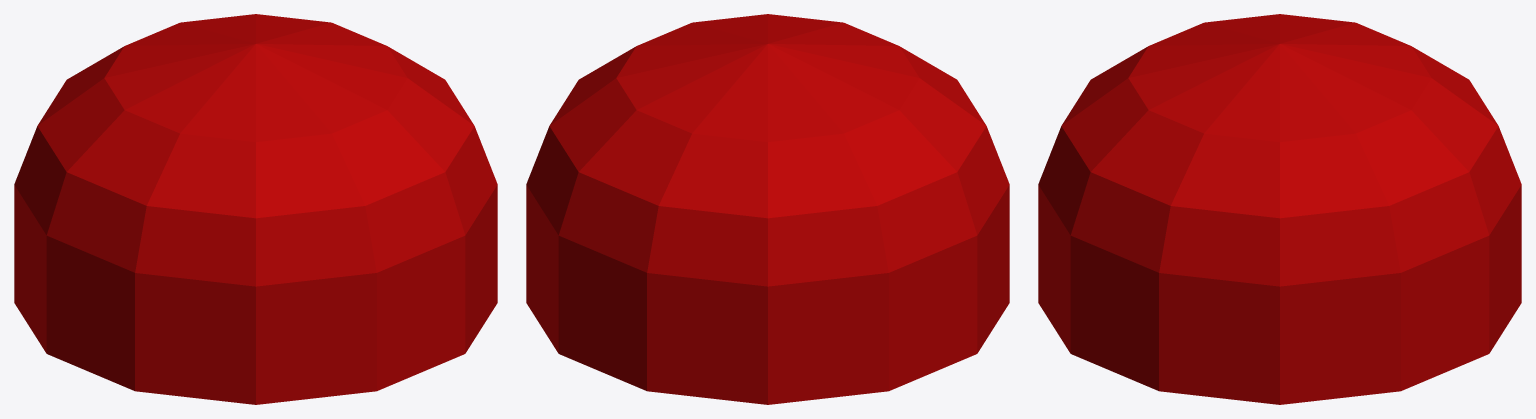
Rendered from c_laser.fbx.
The picture shows the model from 3 angles, left to right: view 1: azimuth 30°, elevation 25°; view 2: azimuth 150°, elevation 25°; view 3: azimuth 270°, elevation 25°; orthographic projection.
Visible parts, largest first — view 1: coll_laser; view 2: coll_laser; view 3: coll_laser.
Boxes of the visible parts, x1,y1,x2,y2 form: coll_laser: (14,14,497,404); coll_laser: (526,14,1009,404); coll_laser: (1038,14,1521,404).
Bounding box in the file's own units: 87.14 × 51.5 × 87.14.
